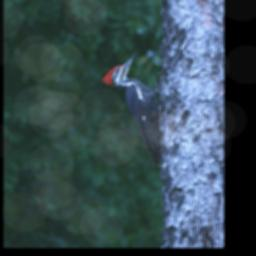Woodpecker: (103, 49, 165, 173)
